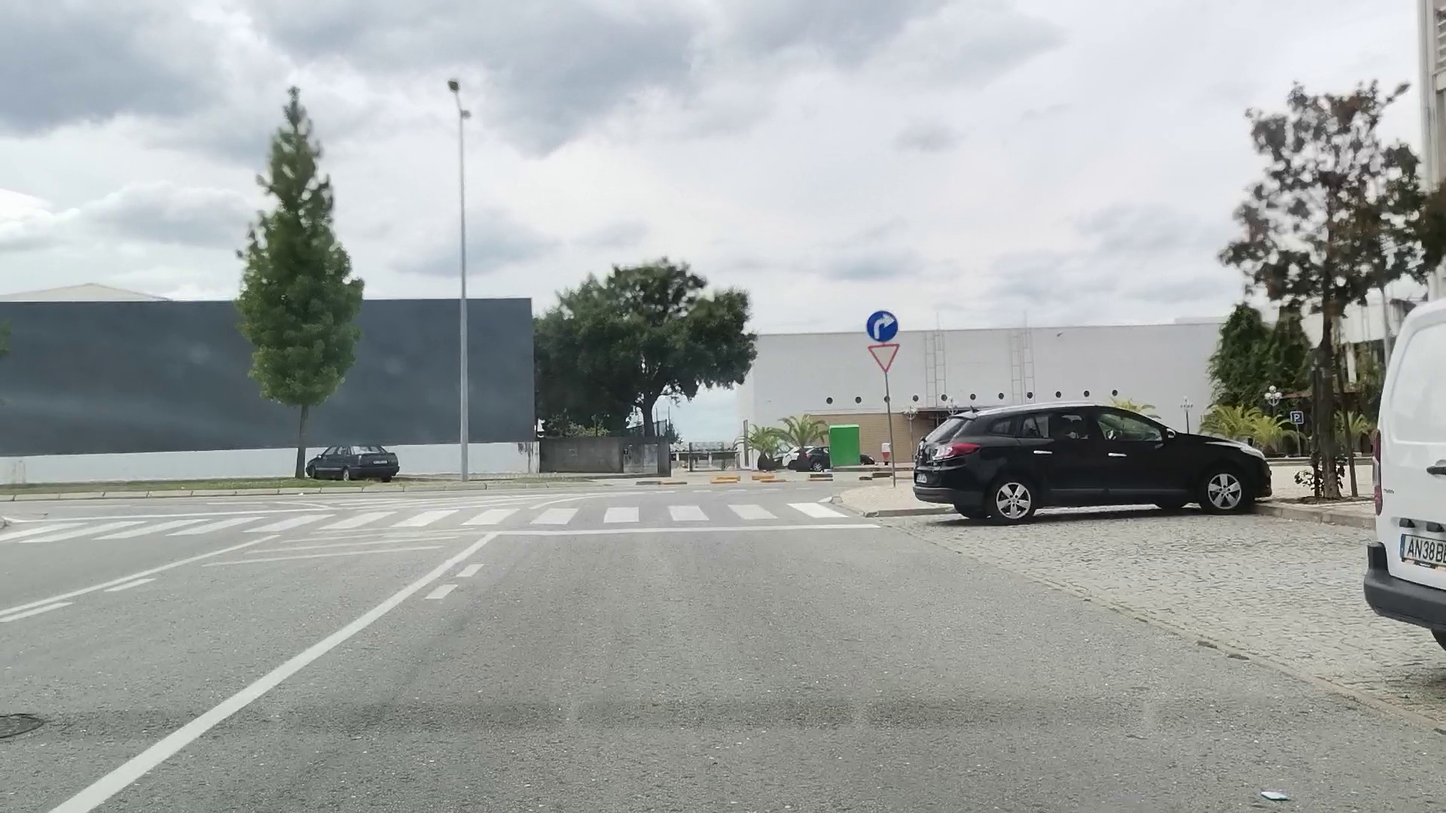Stairs: (0, 503, 850, 542)
